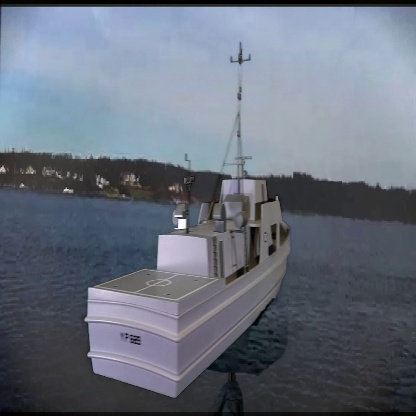YP689: (85, 41, 292, 395)
